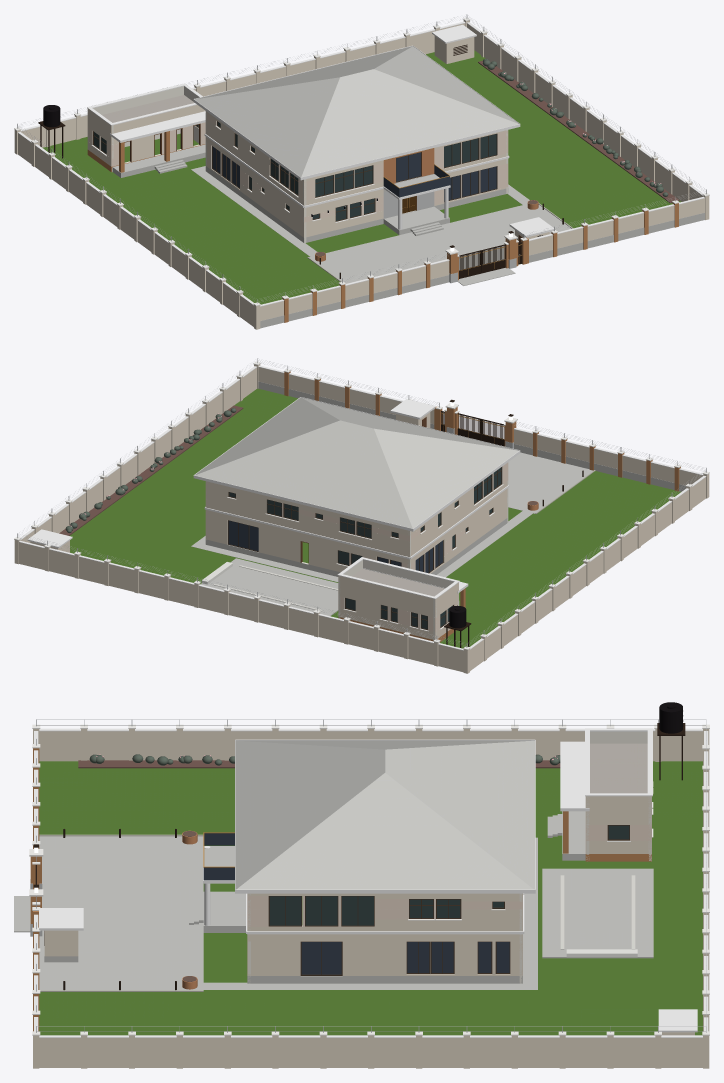
Rendered from est_S5.glb.
The picture shows the model from 3 angles, top to bottom: view 1: azimuth 30°, elevation 25°; view 2: azimuth 150°, elevation 25°; view 3: azimuth 270°, elevation 25°; orthographic projection. The views are drawn at different scales.
Visible parts, largest first — view 1: GR_est_S5, GD_est_S5, GT_est_S5; view 2: GR_est_S5, GD_est_S5, GT_est_S5; view 3: GR_est_S5, GD_est_S5.
Boxes of the visible parts, x1,y1,x2,y2 form: GR_est_S5: (14,20,709,329); GD_est_S5: (14,14,709,305); GT_est_S5: (459,242,522,278); GR_est_S5: (14,364,709,673); GD_est_S5: (14,358,709,649); GT_est_S5: (441,411,504,446); GR_est_S5: (14,728,709,1068); GD_est_S5: (29,702,709,1035).
Size of the model in its own units: 52.55 by 13.55 by 49.87.
Materials: 8 (2 with a texture image).
